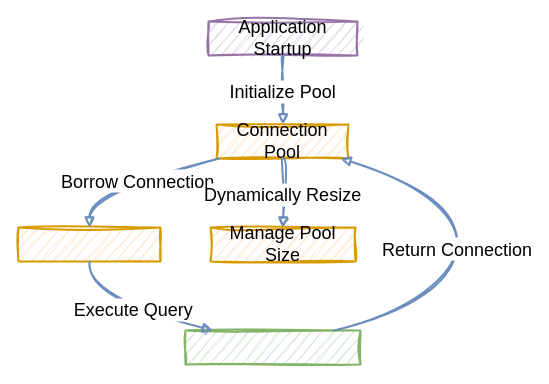
Some shapes in this 549 by 384 pixel diagram are drawn without their labels. The shapes that lost their labels are listed below. From the top down, each one's centre as x and y in pixels, then its label:
the point at 89,244: Request Handling
the point at 272,347: PostgreSQL Database
